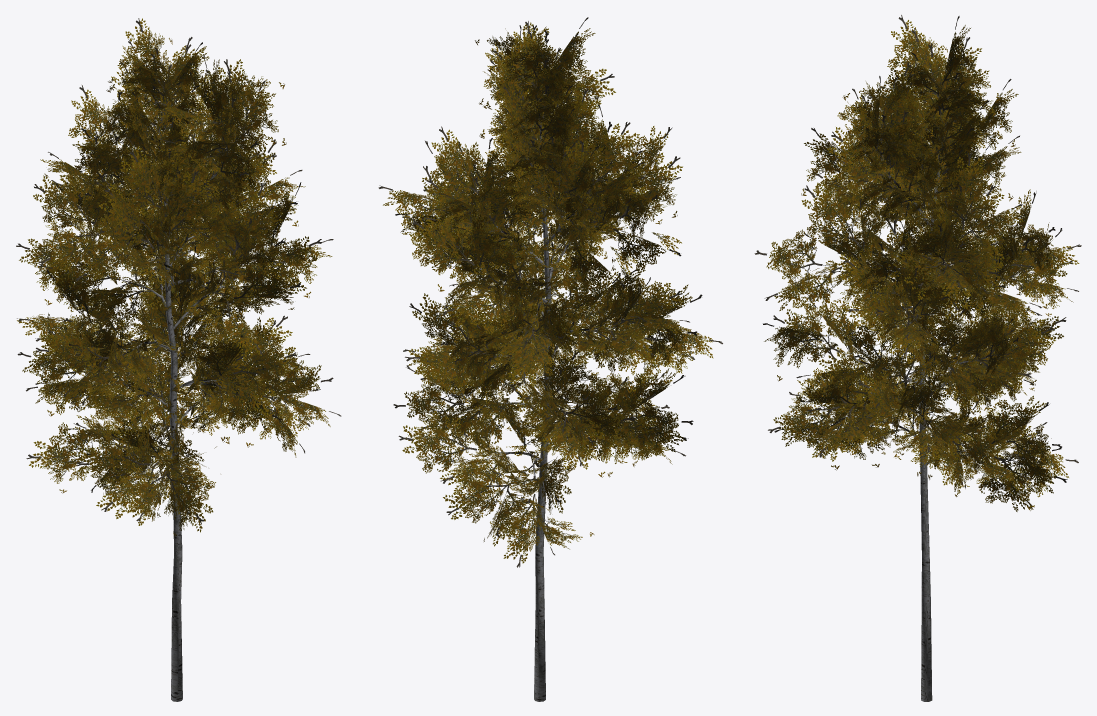
File: birchgold.glb
The picture shows the model from 3 angles, left to right: view 1: azimuth 30°, elevation 25°; view 2: azimuth 150°, elevation 25°; view 3: azimuth 270°, elevation 25°; orthographic projection. The views are drawn at different scales.
Visible parts, largest first — view 1: birchgold; view 2: birchgold; view 3: birchgold.
Boxes of the visible parts, box(x1,y1,x2,y2) form: birchgold: box(16, 18, 341, 701); birchgold: box(378, 17, 722, 701); birchgold: box(754, 15, 1081, 701).
Size of the model in its own units: 8.5 by 18 by 7.96.
Materials: 2 (2 with a texture image).
